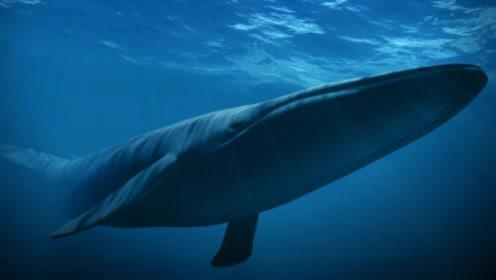fish: (4, 63, 488, 267)
